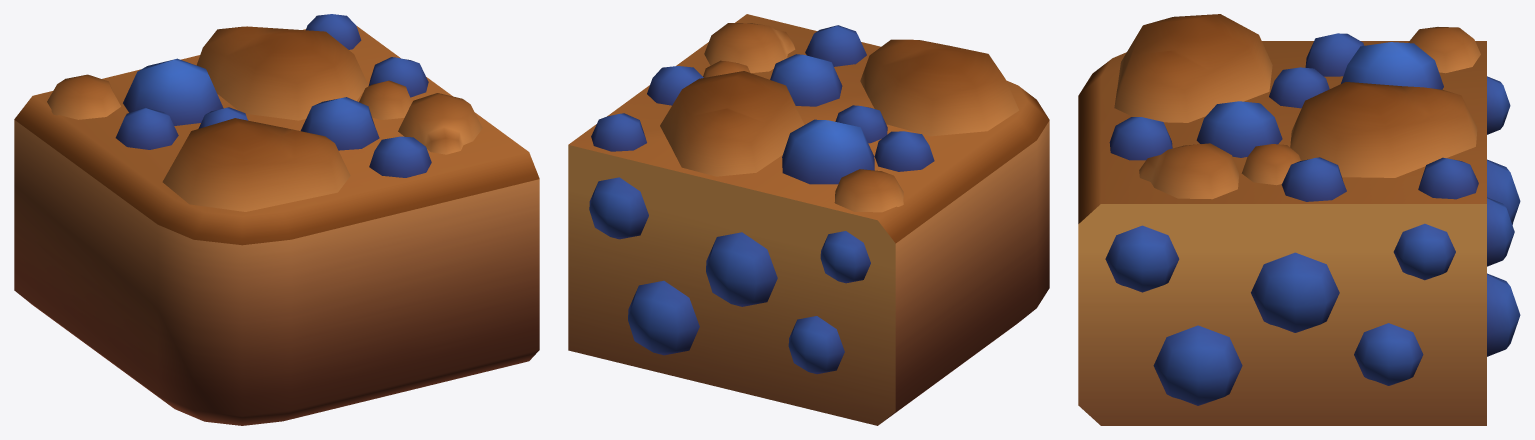
File: m_SheetCake03_Slice01.fbx
3 renders of one model, left to right at view 1: azimuth 30°, elevation 25°; view 2: azimuth 150°, elevation 25°; view 3: azimuth 270°, elevation 25°, orthographic. The views are drawn at different scales.
Parts seen in each view (by area): view 1: m_SheetCake03_Slice01; view 2: m_SheetCake03_Slice01; view 3: m_SheetCake03_Slice01.
Boxes of the visible parts, x1,y1,x2,y2 form: m_SheetCake03_Slice01: [14, 14, 539, 425]; m_SheetCake03_Slice01: [568, 14, 1049, 425]; m_SheetCake03_Slice01: [1078, 14, 1520, 425].
Bounding box in the file's own units: 10.82 × 7.57 × 10.82.
